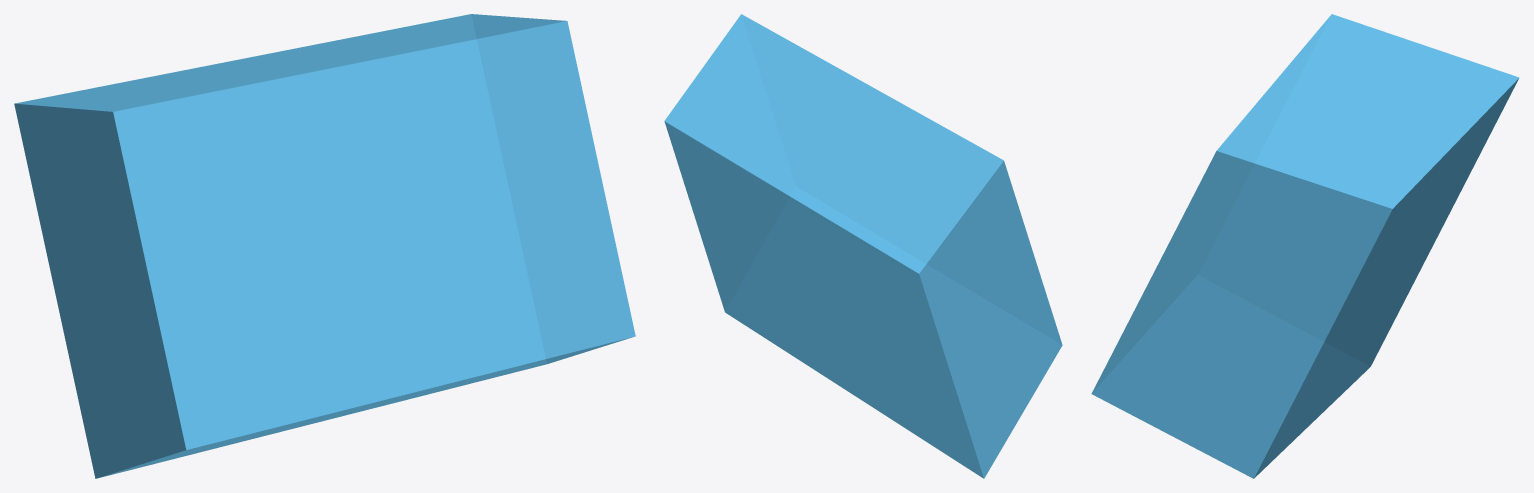
File: Event_420107950_HErechit_48.fbx
3 renders of one model, left to right at view 1: azimuth 30°, elevation 25°; view 2: azimuth 150°, elevation 25°; view 3: azimuth 270°, elevation 25°, orthographic. The views are drawn at different scales.
Visible parts, largest first — view 1: Model; view 2: Model; view 3: Model.
Boxes of the visible parts, x1,y1,x2,y2 form: Model: (14, 14, 635, 478); Model: (664, 14, 1062, 478); Model: (1091, 14, 1519, 478).
Bounding box in the file's own units: 0.8009 × 0.8311 × 0.8286.
